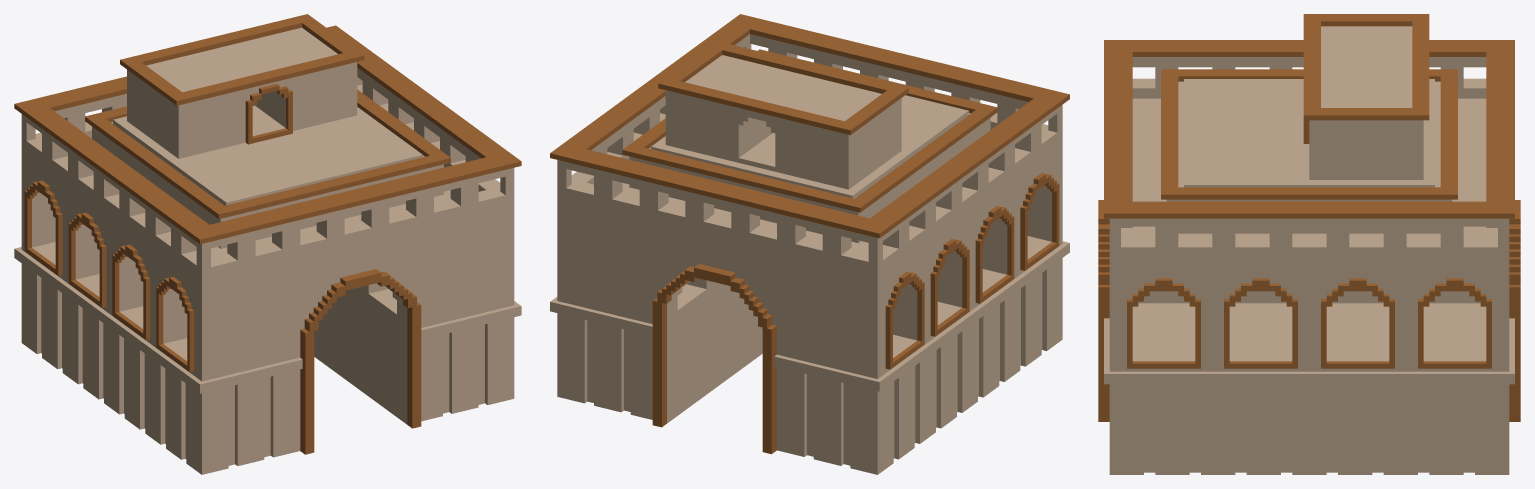
Rendered from Background_B_house_05.FBX.
3 views of the same model, side by side, from view 1: azimuth 30°, elevation 25°; view 2: azimuth 150°, elevation 25°; view 3: azimuth 270°, elevation 25° (orthographic). The views are drawn at different scales.
Visible parts, largest first — view 1: untitled-16; view 2: untitled-16; view 3: untitled-16.
Boxes of the visible parts, x1,y1,x2,y2 form: untitled-16: (14, 14, 521, 474); untitled-16: (550, 14, 1069, 474); untitled-16: (1098, 14, 1520, 474).
Bounding box in the file's own units: 7.2 × 6.3 × 7.4.
Materials: 1 (1 with a texture image).
